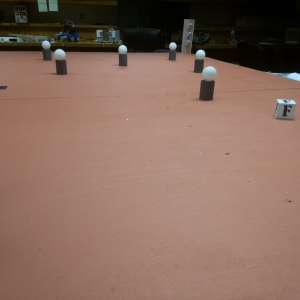obstacle: (198, 65, 220, 100), (54, 49, 69, 74), (193, 50, 207, 74), (41, 40, 53, 61), (168, 41, 180, 60), (118, 44, 128, 66)
